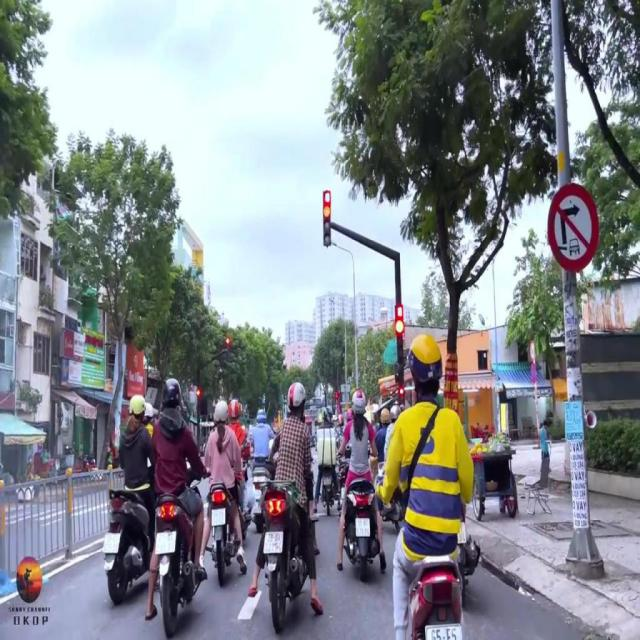cam_o_to_re_phai: (546, 178, 600, 274)
